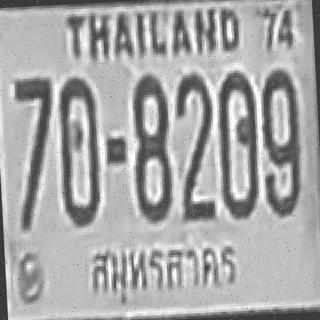N00: (258, 67, 300, 161), (131, 72, 167, 143)
N07: (12, 75, 54, 161)
P58: (81, 234, 249, 316)
